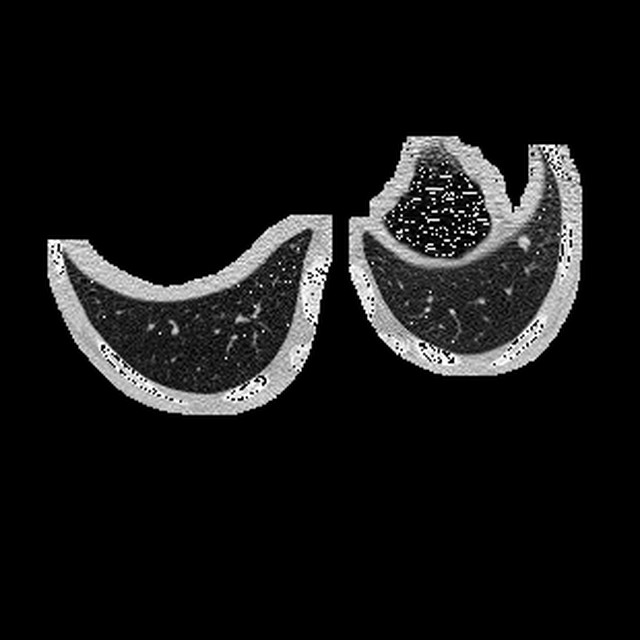PN: (518, 237, 531, 250)
